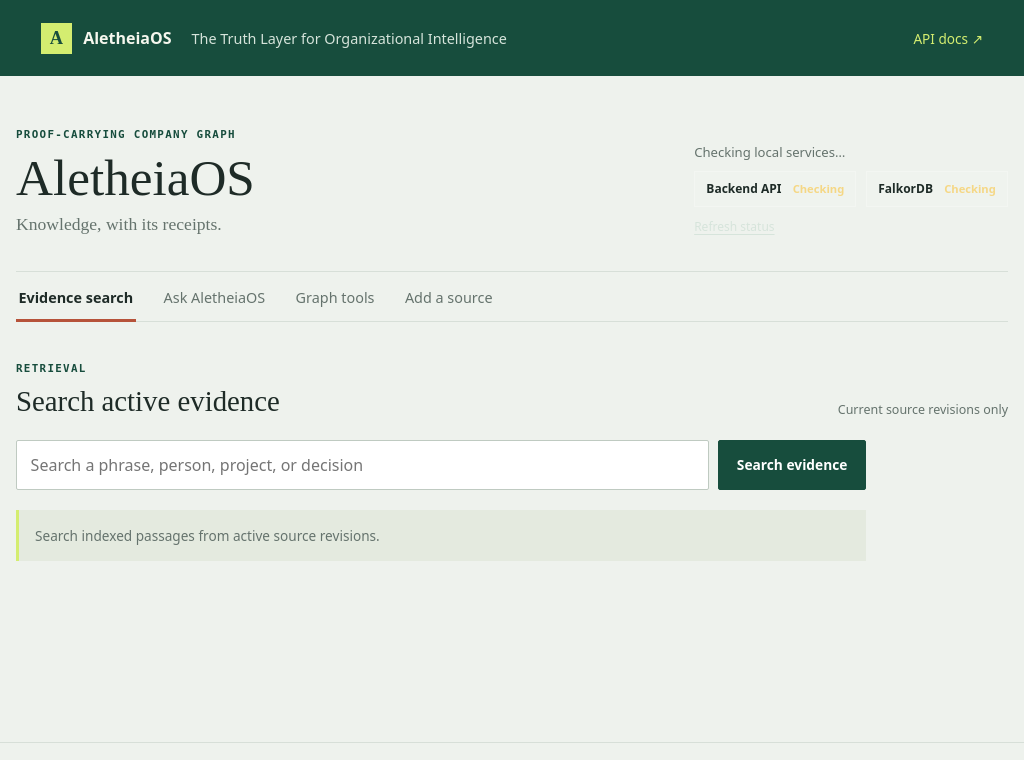
Test: loads the curated synthetic company dataset through the backend
Click the button "Ask AletheiaOS": (214, 296) top-left (161, 272), bottom-right (268, 321)
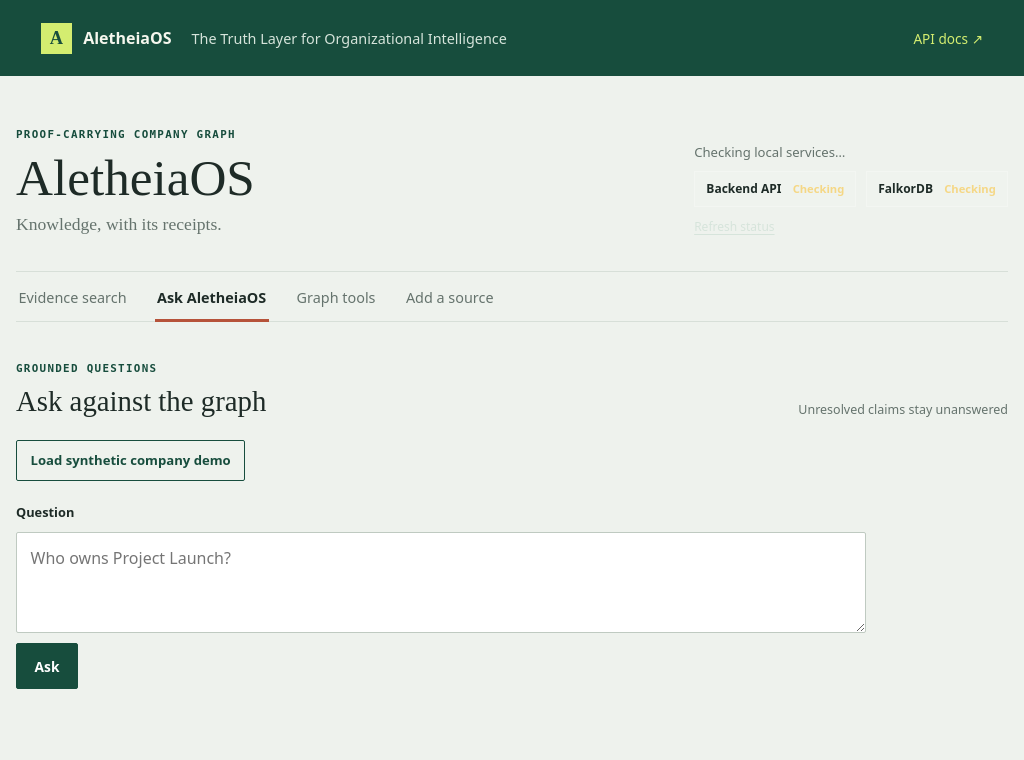
Click the button "Load synthetic company demo": (131, 460) top-left (16, 440), bottom-right (245, 481)
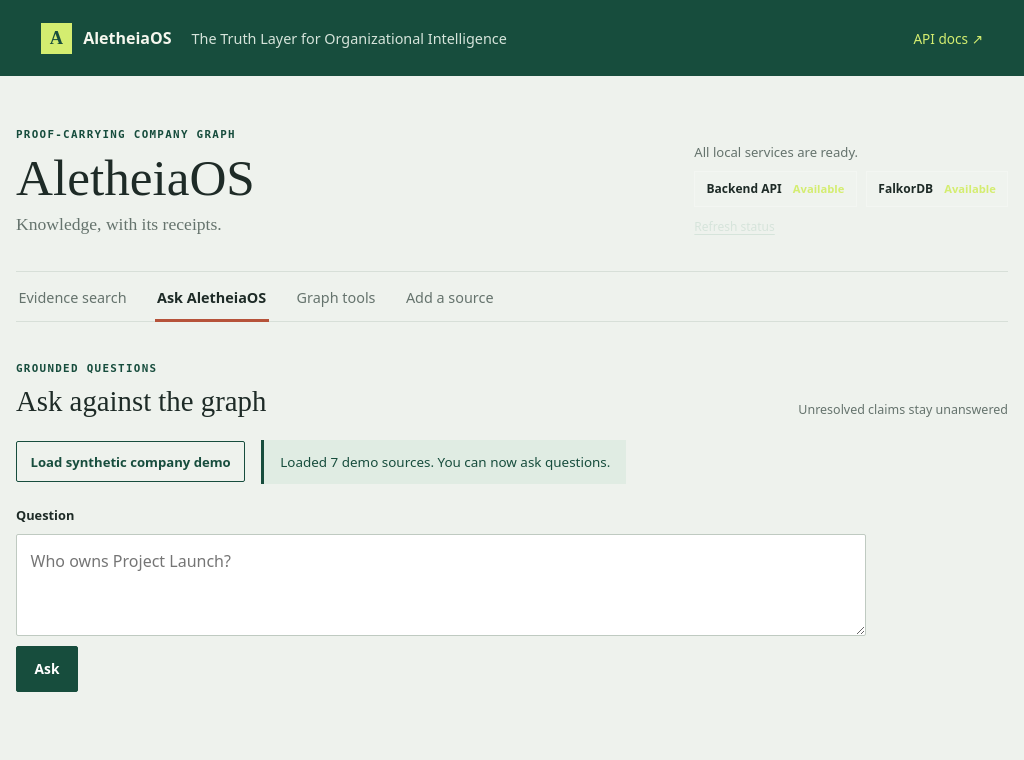
Expected: the text "Loaded 7 demo sources. You can now ask questions." is shown, top-left (261, 440), bottom-right (626, 484)
